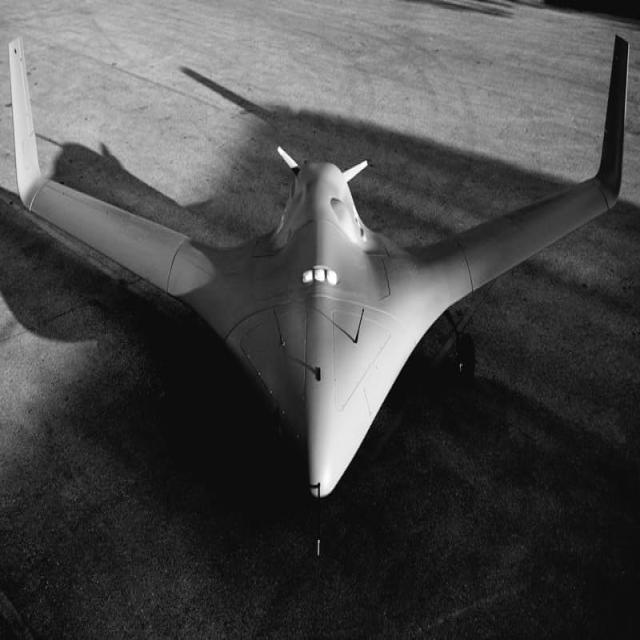iha: (2, 40, 627, 557)
